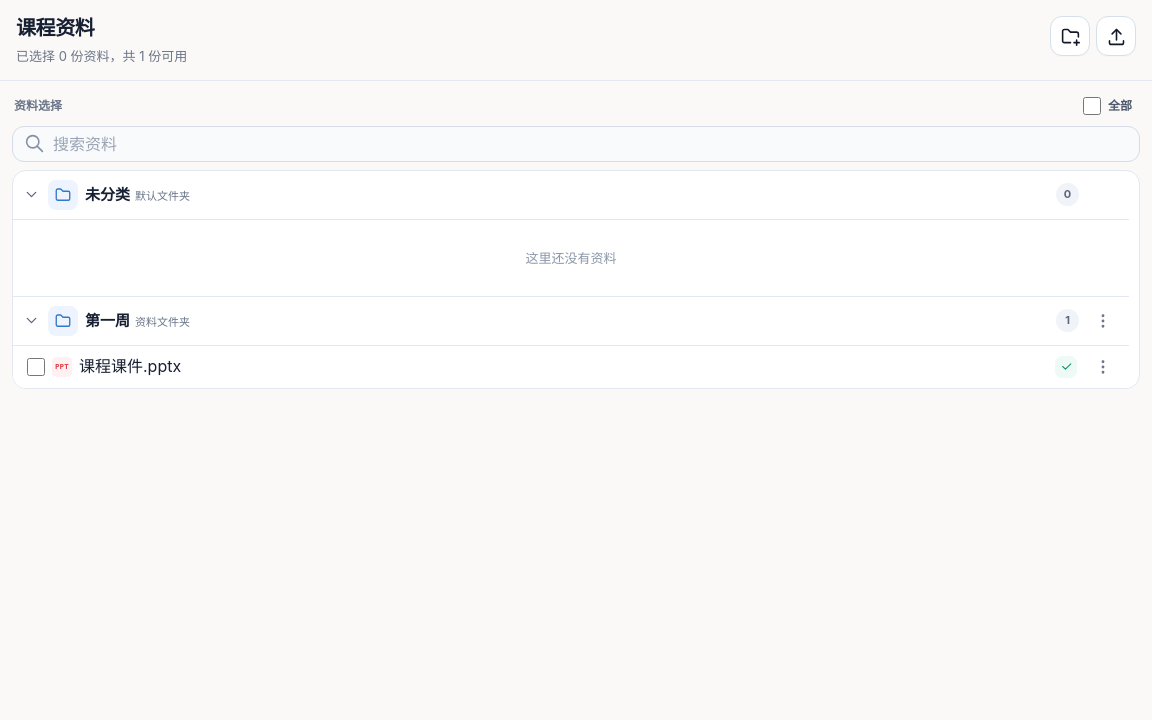
Scenario: MaterialWorkspace › opens 课程课件.pptx with the unified Office preview
Step 1. Click the button "课程课件.pptx" → (130, 366), box [79,354,1049,379]
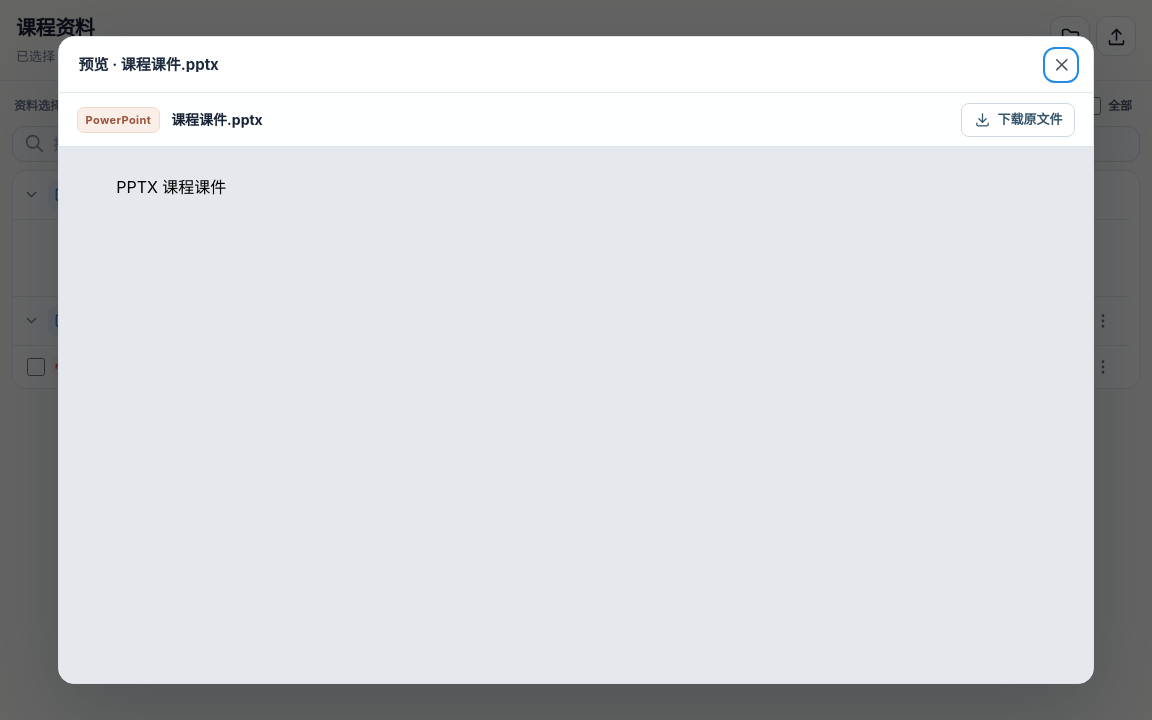
Result: the text "PPTX 课程课件" is shown at [116,177,226,197]
